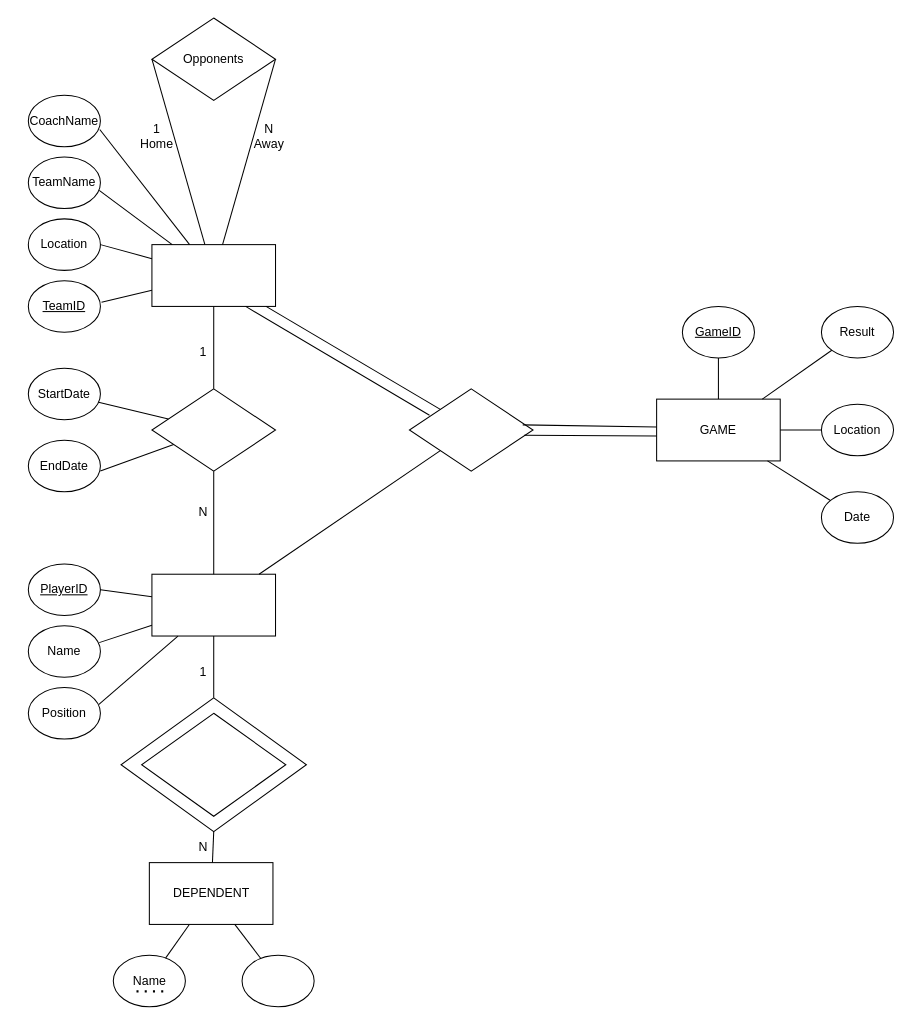
Image size: 912x1025. Some labels were removed from this diagram. Each missing label, with the centre of its shape:
"DEPENDENTS_OF" belongs at pixel 213 764.
"PARTICIPATES" belongs at pixel 470 429.
"PLAYER" belongs at pixel 213 604.
"Plays_For" belongs at pixel 213 429.
"Relationship" belongs at pixel 277 980.
"TEAM" belongs at pixel 213 275.
